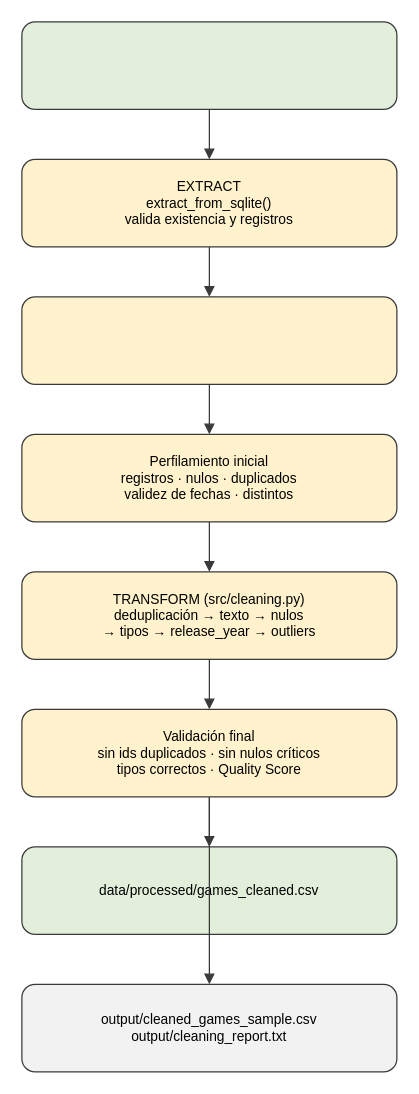
This 419x1094 diagram has some shape labels left out. Each missing label, with the centre of its shape:
"LOAD Pandas → Spark DataFrame (Apache Arrow)" goes at (209,340).
"SQLite · games.db" goes at (209,65).
